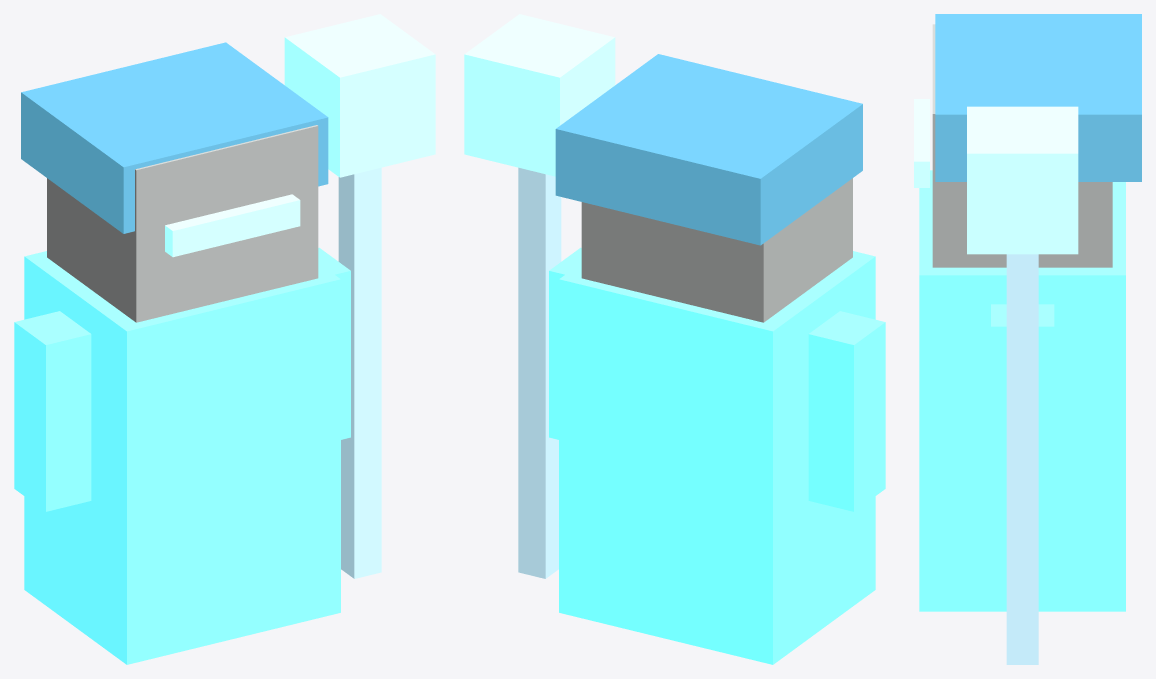
The model's file is data-sage.glb.
3 renders of one model, left to right at view 1: azimuth 30°, elevation 25°; view 2: azimuth 150°, elevation 25°; view 3: azimuth 270°, elevation 25°, orthographic.
Parts seen in each view (by area): view 1: Robe, Head, Hood, Orb, Staff, LeftArm, Eyes, RightArm; view 2: Robe, Hood, Head, Orb, Staff, LeftArm, RightArm; view 3: Robe, Hood, Orb, Staff, Head, RightArm, Eyes.
Part boxes in pixels (box(x1,y1,x2,y2)): Robe: box(24, 251, 340, 664); Head: box(47, 125, 318, 322); Hood: box(21, 42, 328, 233); Orb: box(284, 14, 435, 177); Staff: box(338, 167, 381, 578); LeftArm: box(14, 311, 91, 511); Eyes: box(165, 194, 300, 257); RightArm: box(318, 247, 350, 439); Robe: box(559, 251, 875, 664); Hood: box(555, 54, 862, 245); Head: box(581, 178, 852, 322); Orb: box(464, 14, 615, 176); Staff: box(518, 167, 561, 578); LeftArm: box(808, 311, 885, 511); RightArm: box(549, 247, 581, 439); Robe: box(919, 170, 1125, 611); Hood: box(935, 14, 1141, 181); Orb: box(967, 106, 1078, 254); Staff: box(1006, 254, 1038, 664); Head: box(932, 24, 1112, 267); RightArm: box(991, 304, 1054, 494); Eyes: box(914, 99, 929, 187).
Bounding box in the file's own units: 1.66 × 2.2 × 0.86.
